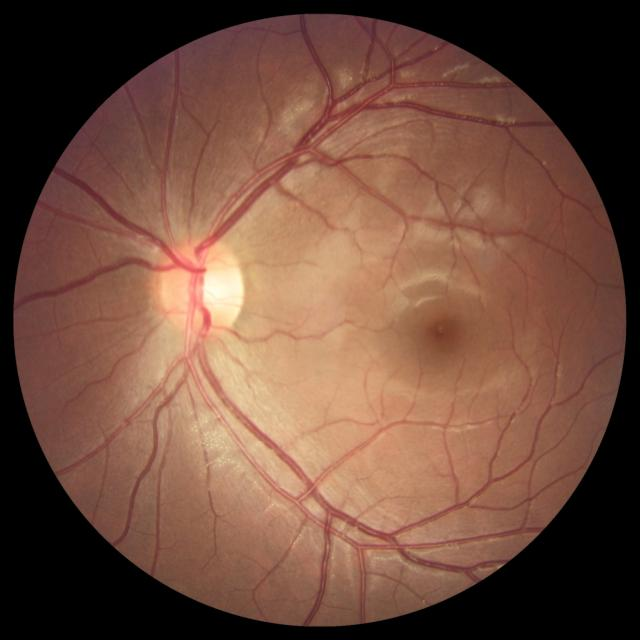OC: (186, 261, 232, 316)
OD: (158, 239, 247, 338)
